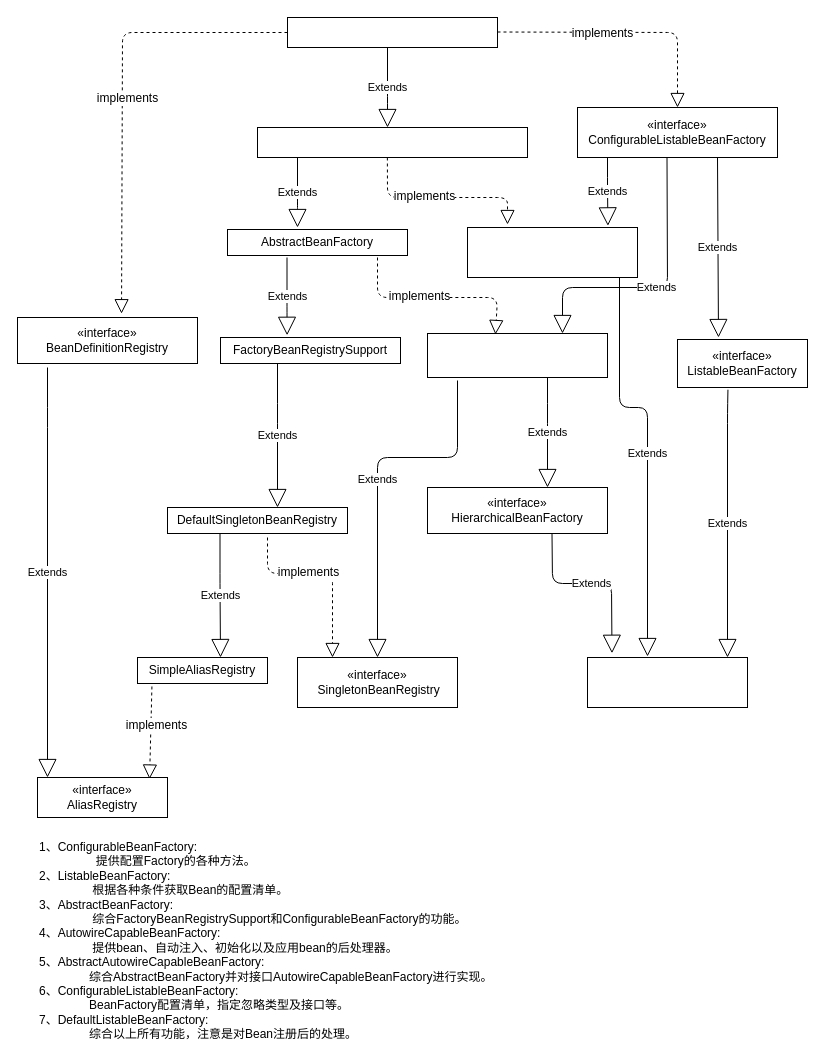
The diagram is 825 pixels wide and 1059 high, and some of its shapes have lost their labels. Each missing label, with the centre of its shape:
"AbstractAutowireCapableBeanFactory" goes at (392,142).
"DefaultListableBeanFactory" goes at (392,32).
"«interface» AutowireCapableBeanFactory" goes at (552,252).
"«interface» BeanFactory" goes at (667,682).
"«interface» ConfigurableBeanFactory" goes at (517,355).
